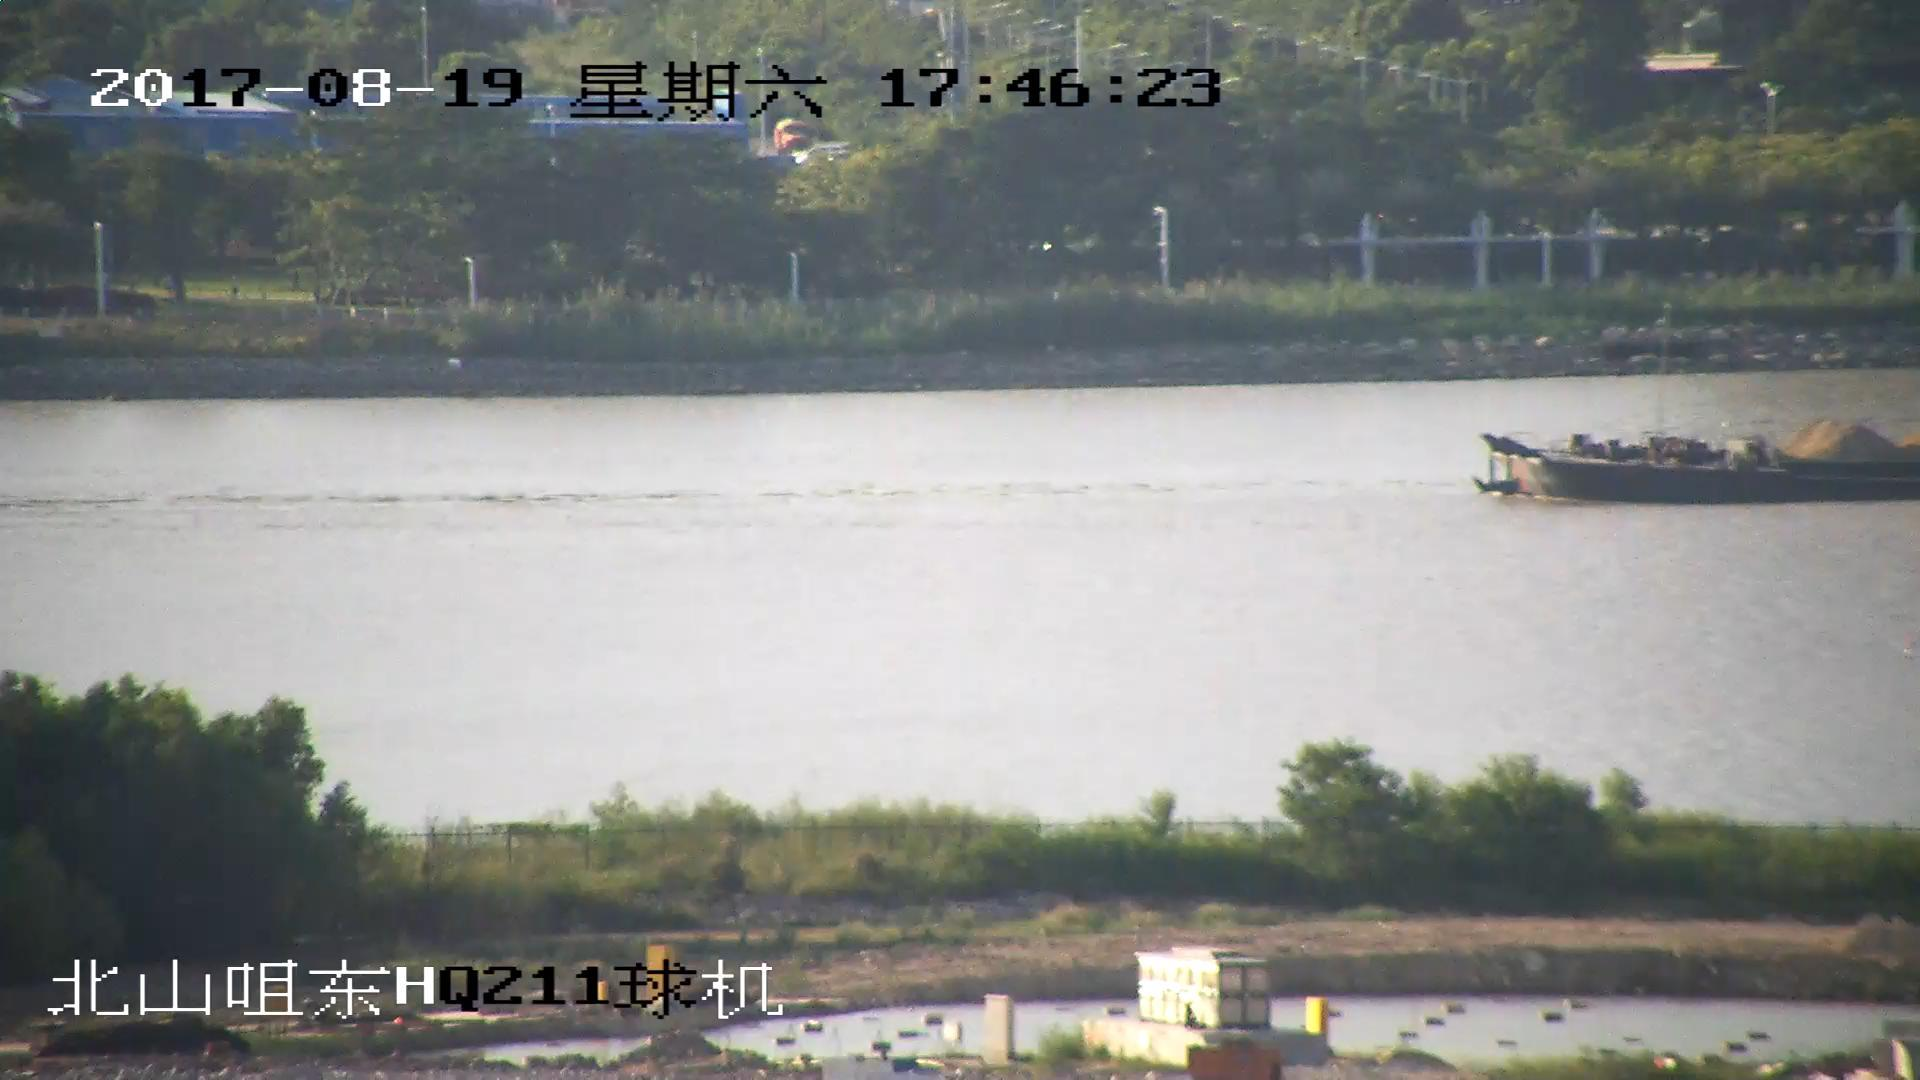Ship: (1472, 417, 1920, 508)
